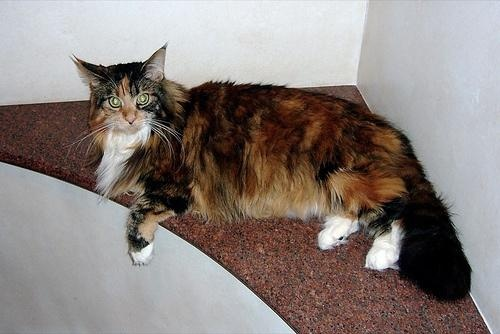cat: (68, 41, 475, 304)
